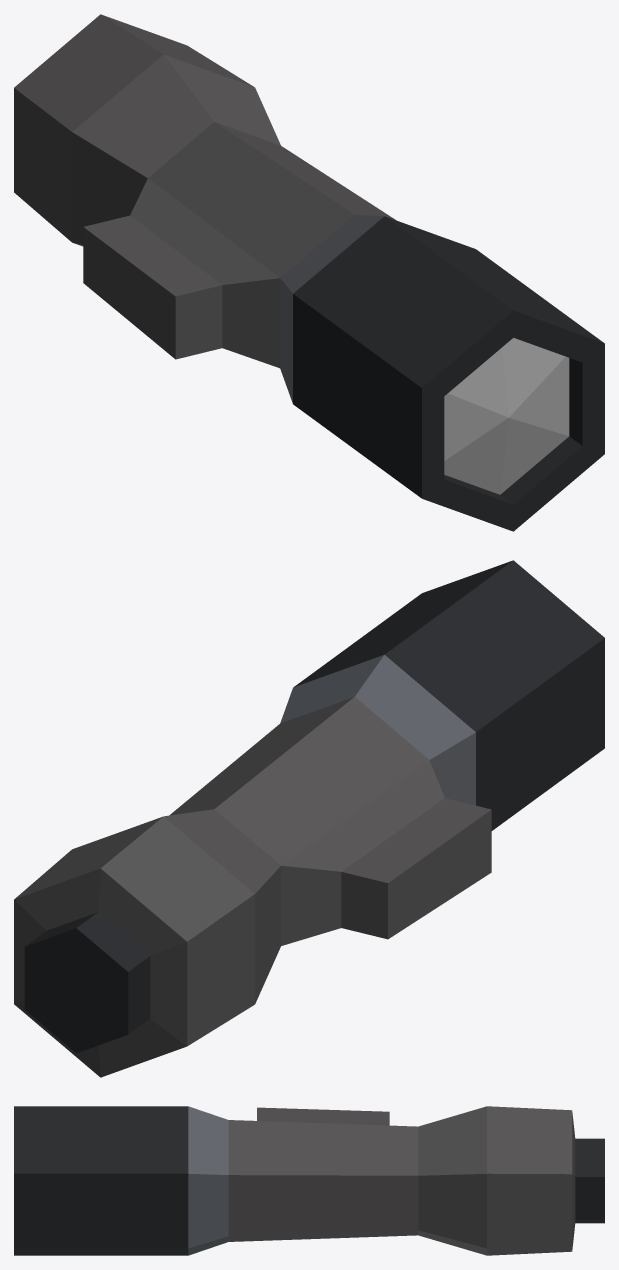
The model's file is SM_Chr_Attach_Torch_01.fbx.
The picture shows the model from 3 angles, top to bottom: view 1: azimuth 30°, elevation 25°; view 2: azimuth 150°, elevation 25°; view 3: azimuth 270°, elevation 25°; orthographic projection. The views are drawn at different scales.
Parts seen in each view (by area): view 1: SM_Chr_Attach_Torch_01; view 2: SM_Chr_Attach_Torch_01; view 3: SM_Chr_Attach_Torch_01.
Part boxes in pixels (x1,y1,x2,y2): SM_Chr_Attach_Torch_01: (14, 14, 604, 531); SM_Chr_Attach_Torch_01: (14, 560, 604, 1077); SM_Chr_Attach_Torch_01: (14, 1106, 604, 1255).
Size of the model in its own units: 4.7 by 3.98 by 14.25.
